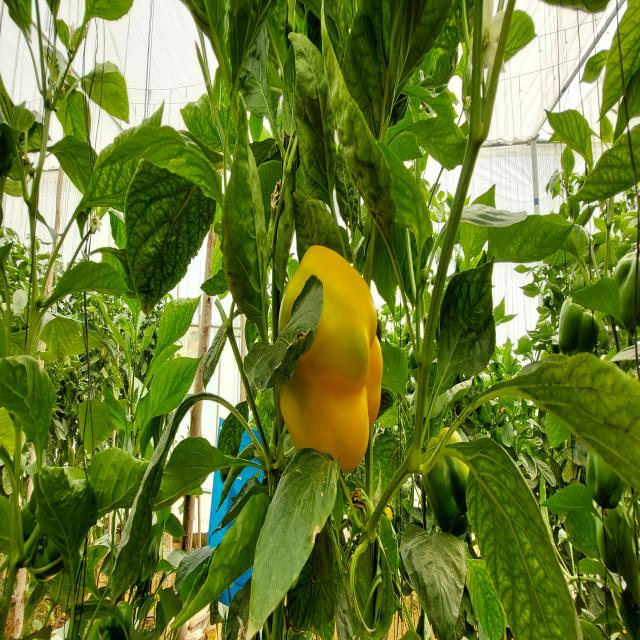GreenishYellow--Can-be-Harvested: (268, 244, 394, 476)
